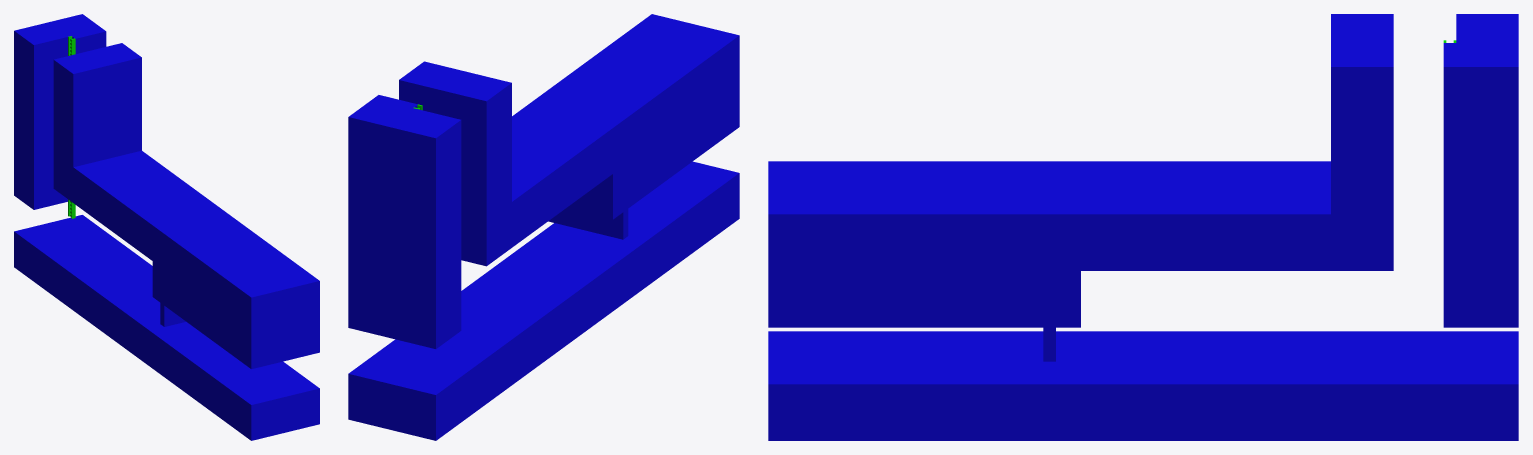
Rendered from Level_3_scene11_colored.fbx.
3 views of the same model, side by side, from view 1: azimuth 30°, elevation 25°; view 2: azimuth 150°, elevation 25°; view 3: azimuth 270°, elevation 25° (orthographic). The views are drawn at different scales.
Visible parts, largest first — view 1: area1.002, Cube.004; view 2: area1.002; view 3: area1.002, Cube.004.
Boxes of the visible parts, x1,y1,x2,y2 form: area1.002: (14, 14, 319, 440); Cube.004: (72, 28, 106, 53); area1.002: (348, 14, 739, 440); area1.002: (768, 14, 1518, 440); Cube.004: (1443, 43, 1456, 327).
Bounding box in the file's own units: 1000 × 3300 × 6000.
